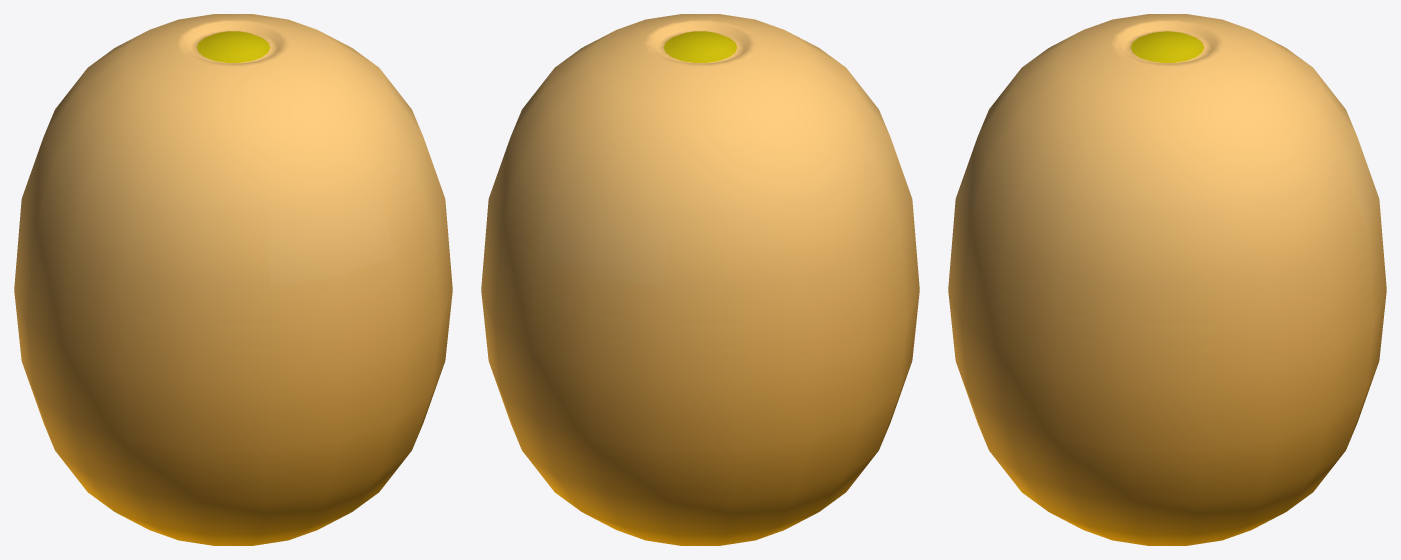
The model's file is Kiwi.fbx.
3 views of the same model, side by side, from view 1: azimuth 30°, elevation 25°; view 2: azimuth 150°, elevation 25°; view 3: azimuth 270°, elevation 25° (orthographic).
Visible parts, largest first — view 1: Kiwi; view 2: Kiwi; view 3: Kiwi.
Boxes of the visible parts, <box> form: Kiwi: <box>14,14,452,545</box>; Kiwi: <box>481,14,919,545</box>; Kiwi: <box>948,14,1386,545</box>.
Bounding box in the file's own units: 75.82 × 92.7 × 76.99.
